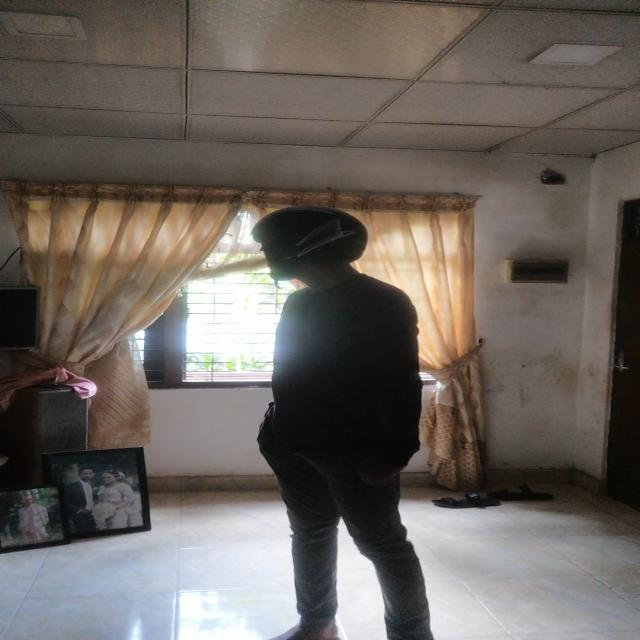Helmet_Wearer: (237, 196, 379, 286)
Person: (222, 197, 448, 640)
